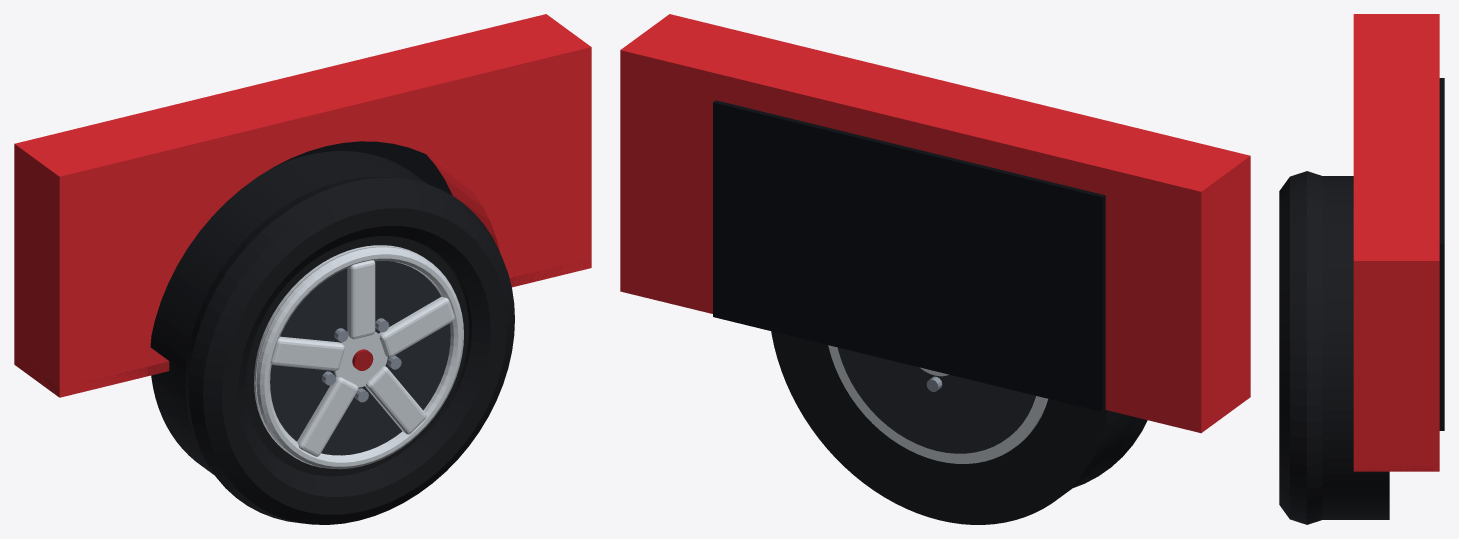
The model's file is rueda.glb.
3 views of the same model, side by side, from view 1: azimuth 30°, elevation 25°; view 2: azimuth 150°, elevation 25°; view 3: azimuth 270°, elevation 25° (orthographic). The views are drawn at different scales.
Visible parts, largest first — view 1: giro, Cube, Cube.002, Cube.001; view 2: Cube, Cube.002, giro; view 3: Cube, giro, Cube.002.
Part boxes in pixels (x1,y1,x2,y2): giro: (150,151,514,524); Cube: (14,14,591,397); Cube.002: (274,141,452,195); Cube.001: (18,259,589,395); Cube: (620,14,1250,433); Cube.002: (713,100,1105,411); giro: (771,331,1147,524); Cube: (1353,14,1439,471); giro: (1279,171,1389,524); Cube.002: (1439,78,1444,430).
Bounding box in the file's own units: 3.4 × 2.38 × 0.9617.
